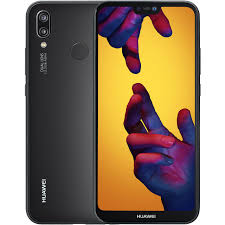huawei: (90, 1, 203, 224), (23, 1, 95, 223)
